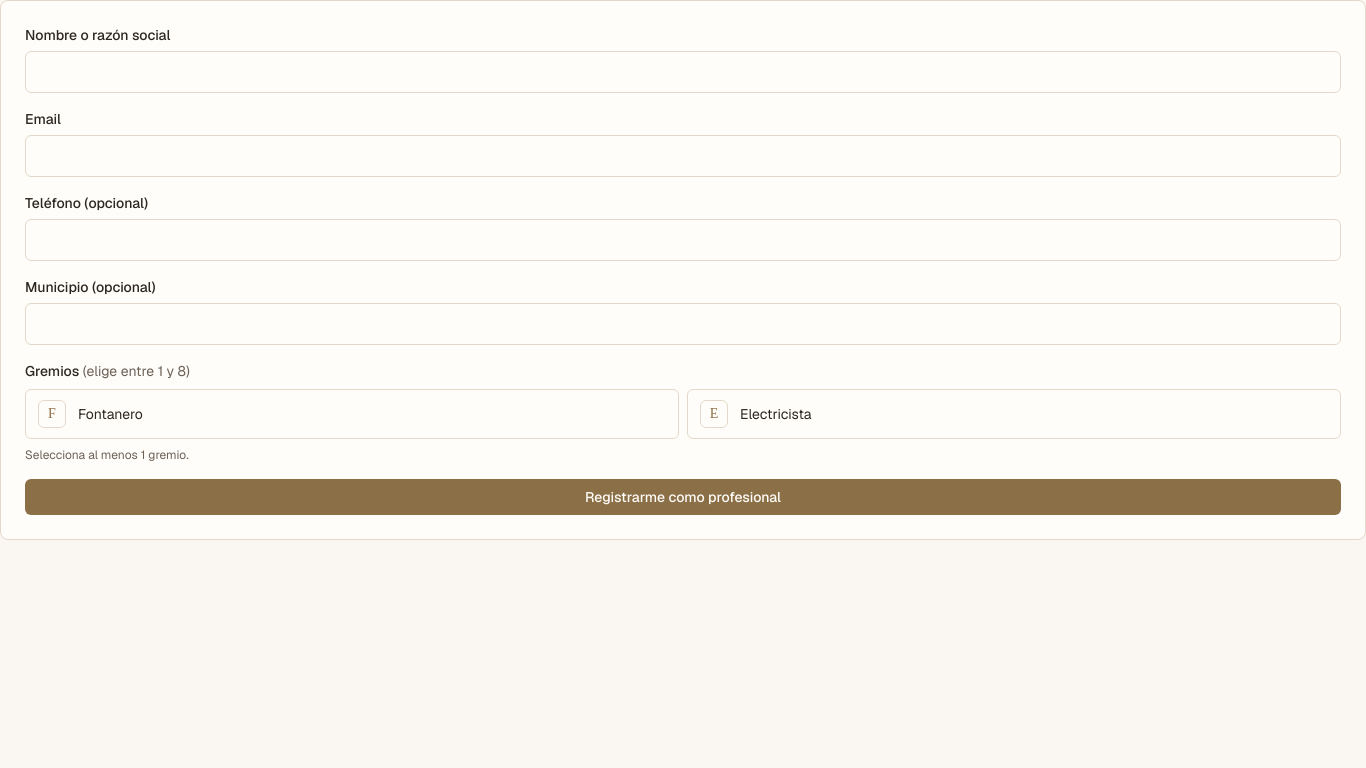
Test: FormularioAlta › con_email_ya_registrado_muestra_el_conflicto_del_backend
Expected: the checkbox labelled "Fontanero" is shown, [25, 389, 679, 439]
Type "Luis Fontanero" into the field labelled "Nombre o razón social".
click(683, 72); type("Luis Fontanero")  # box [25, 51, 1341, 93]
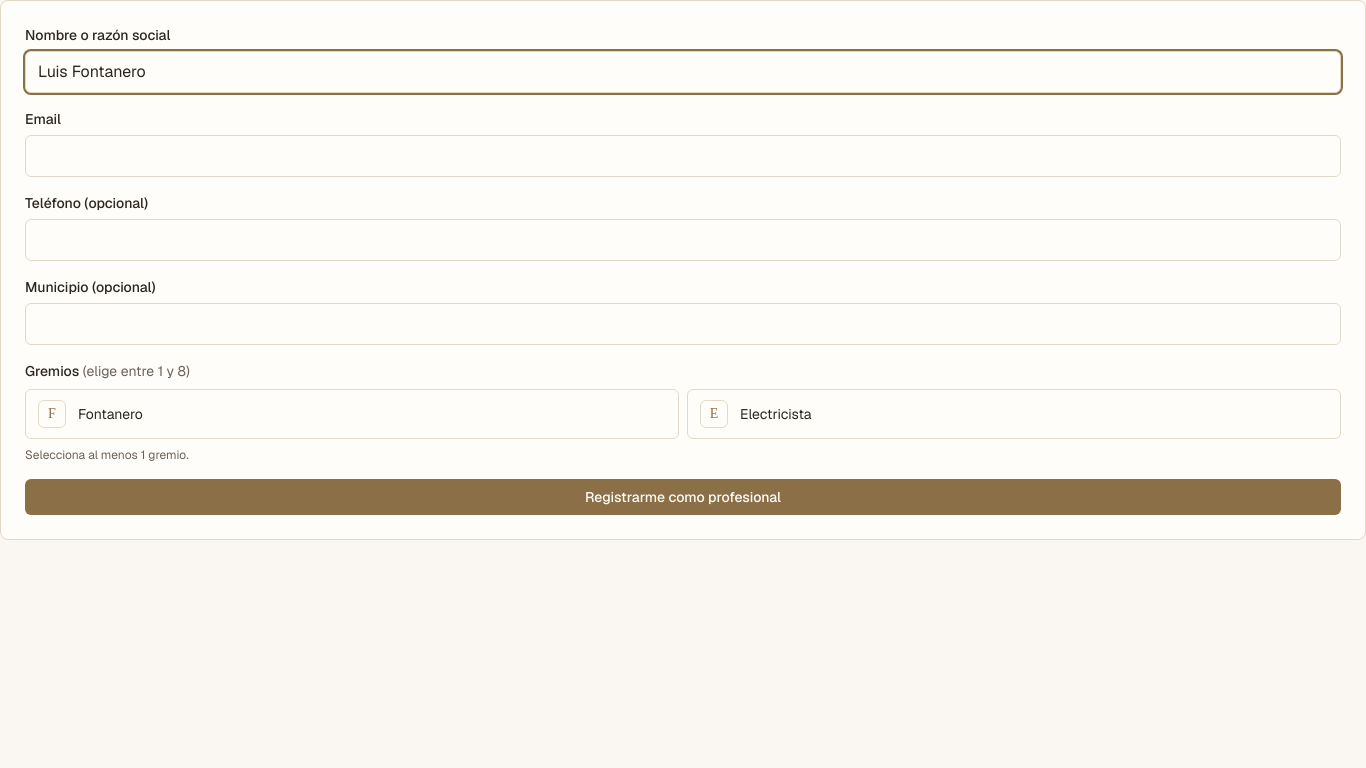
Type "luis@ejemplo.com" into the field labelled "Email".
click(683, 156); type("luis@ejemplo.com")  # box [25, 135, 1341, 177]
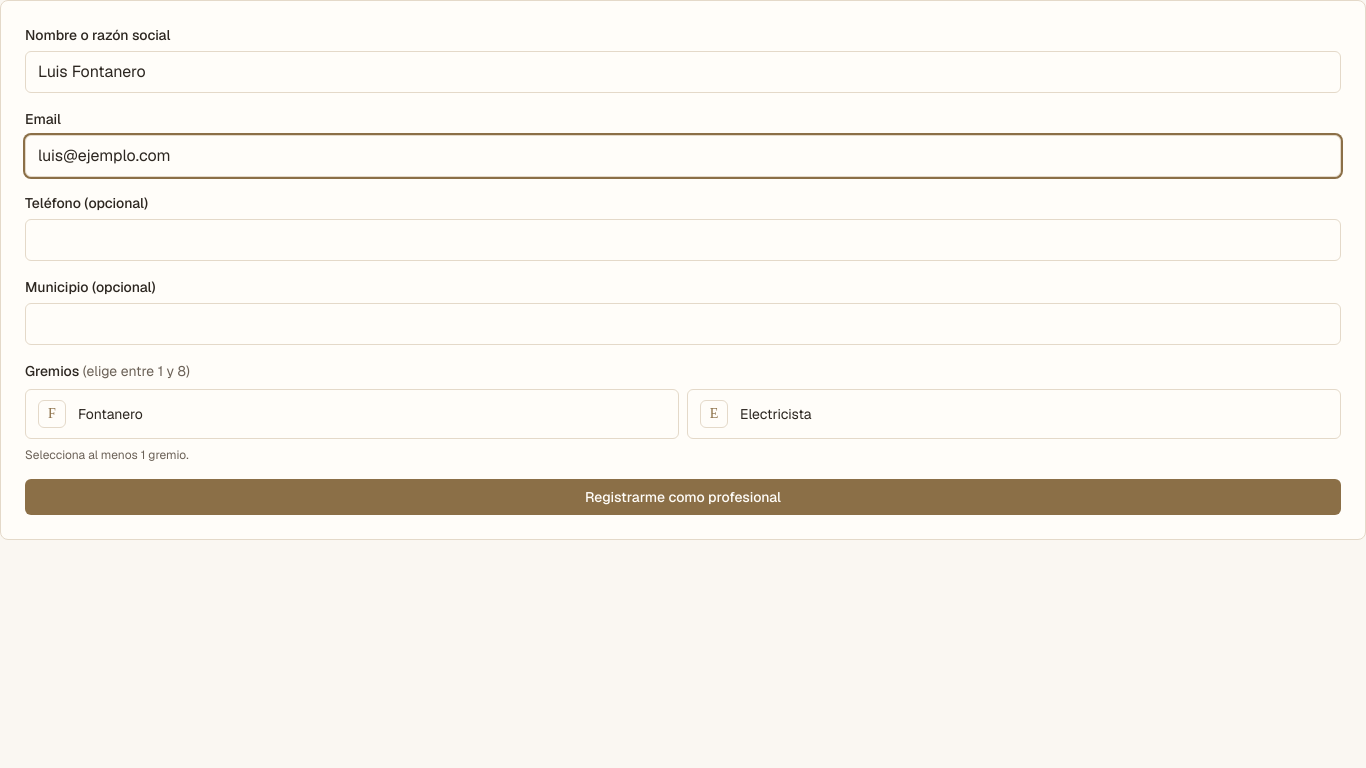
Click the checkbox labelled "Fontanero".
click(110, 414)  # box [25, 389, 679, 439]
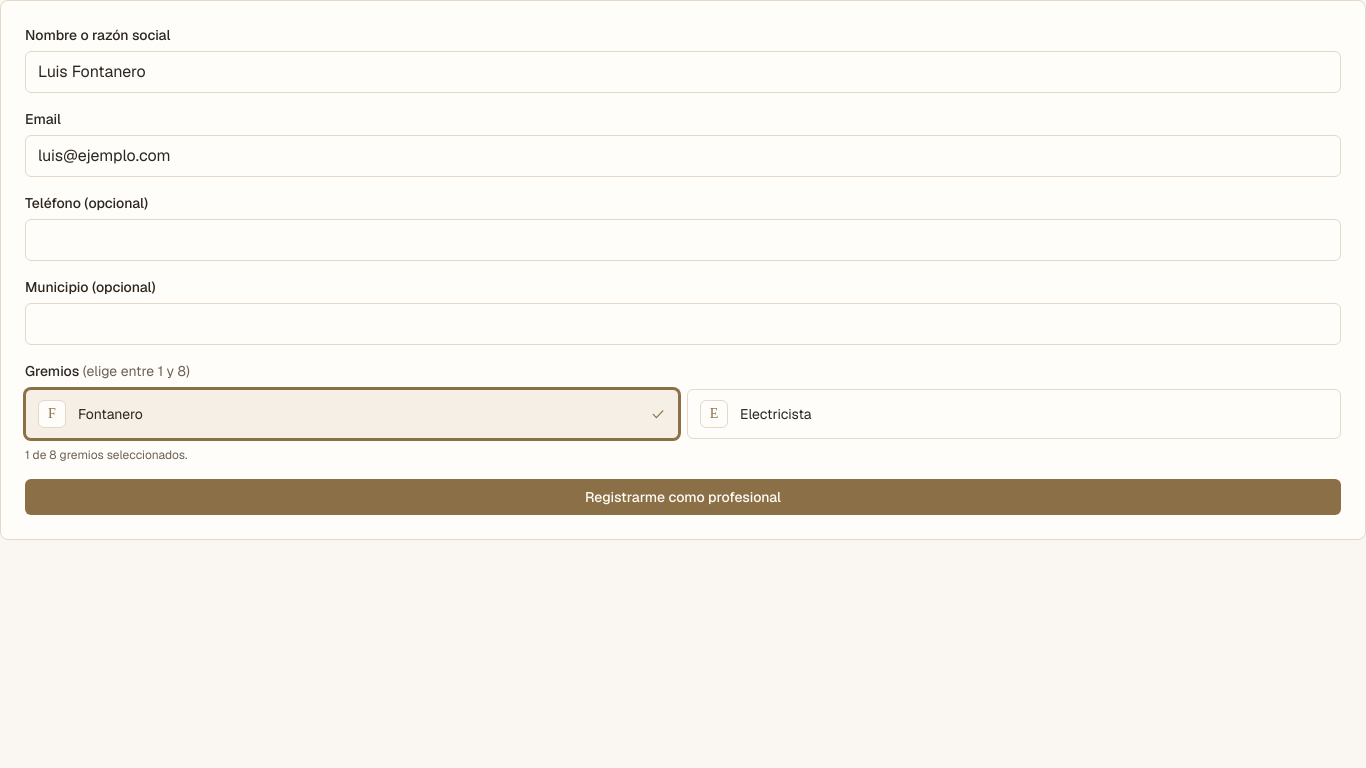
Click the button "Registrarme como profesional".
click(683, 497)  # box [25, 479, 1341, 515]
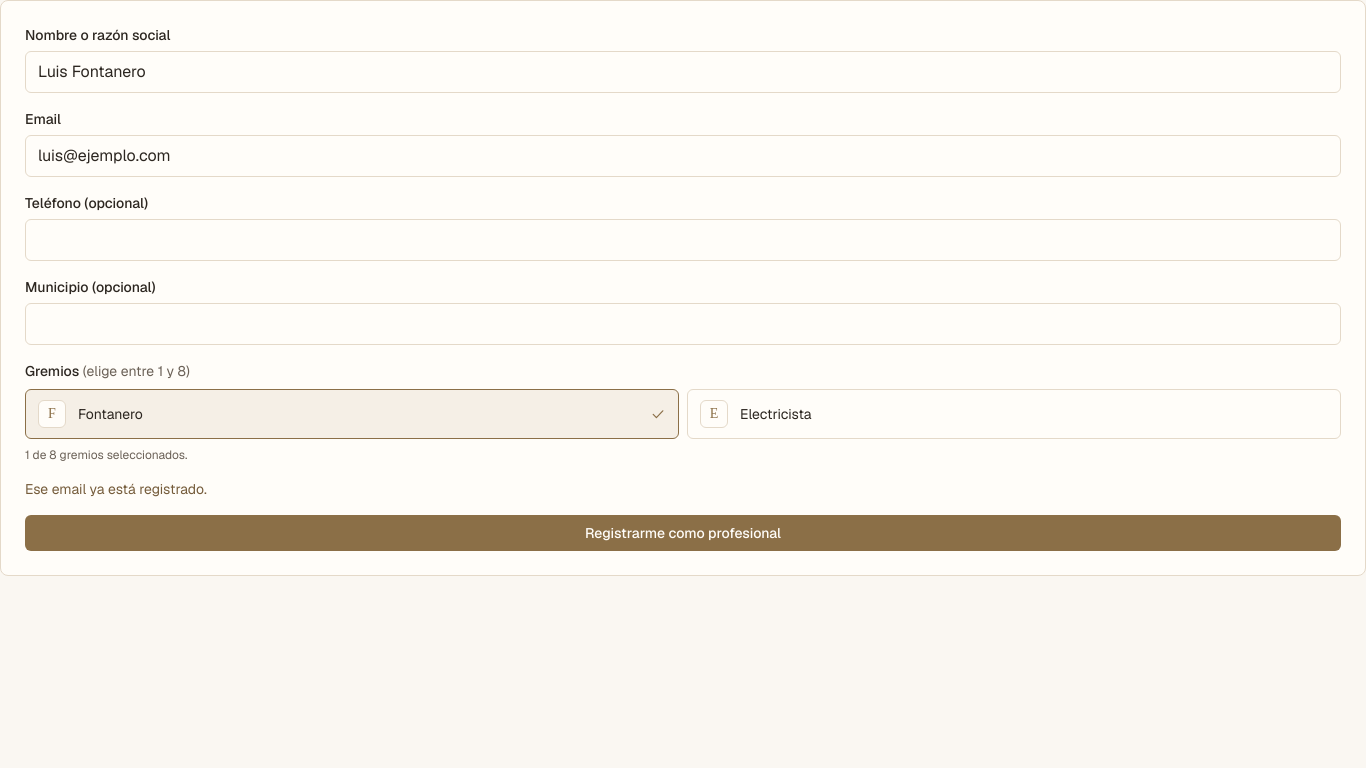
Result: the message "Ese email ya está registrado." is shown at [25, 480, 207, 498]
